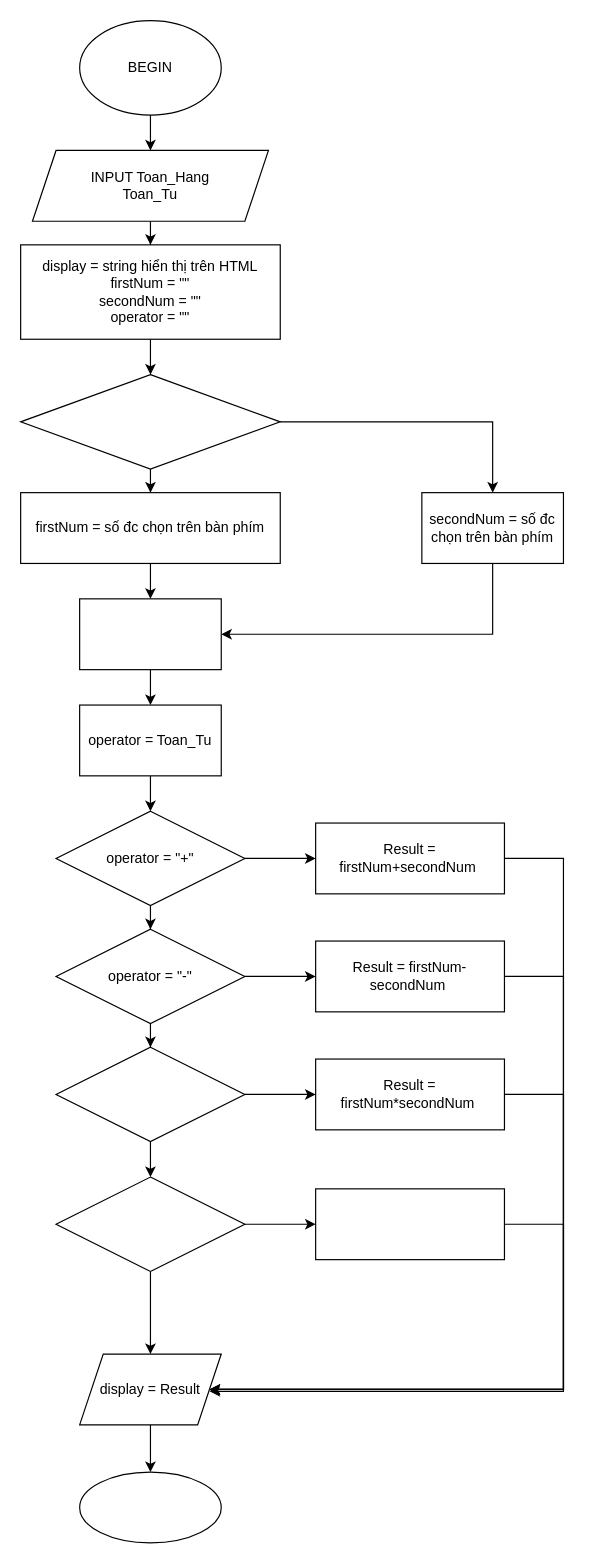
This 594x1563 diagram has some shape labels left out. The shapes that lost their labels are listed below. From the top down, each one's centre as x and y in pixels, then its label:
(149,421): operator = ""
(149,634): display cộng chuỗi
(150,1094): operator = "*"
(150,1223): operator = "/"
(409,1224): Result = firstNum/secondNum
(149,1507): END
